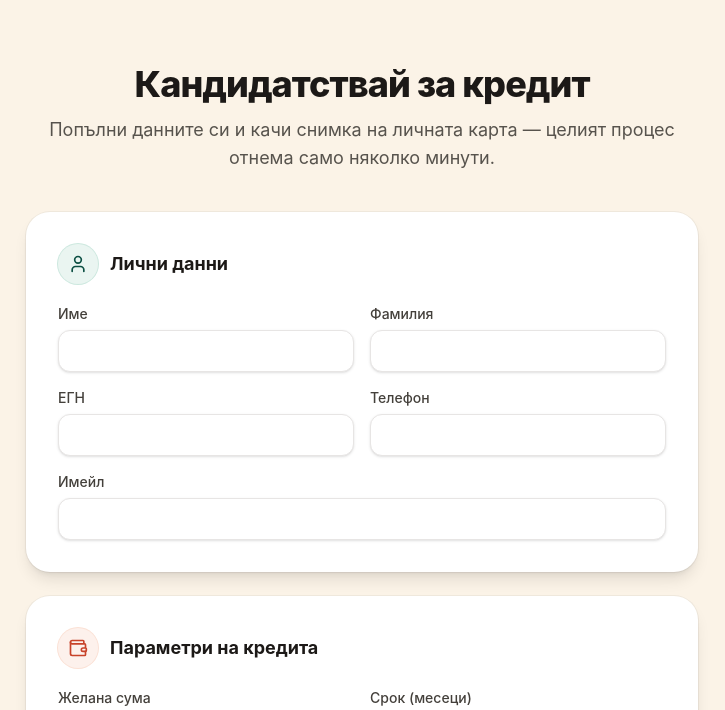
it: ApplyPage › blocks submission and shows an inline message for an invalid EGN
The image size is (725, 710).
Type "1234567890" into the field labelled "ЕГН". click: (206, 435)
box: [58,414,354,456]
(page scrolled)
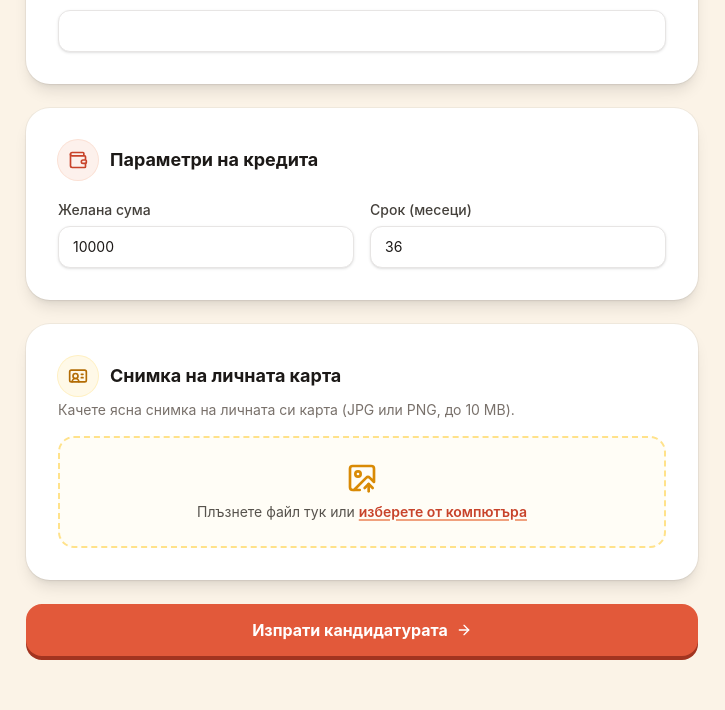
Click the button "Изпрати кандидатурата". click: (362, 630)
box: [26,604,698,656]
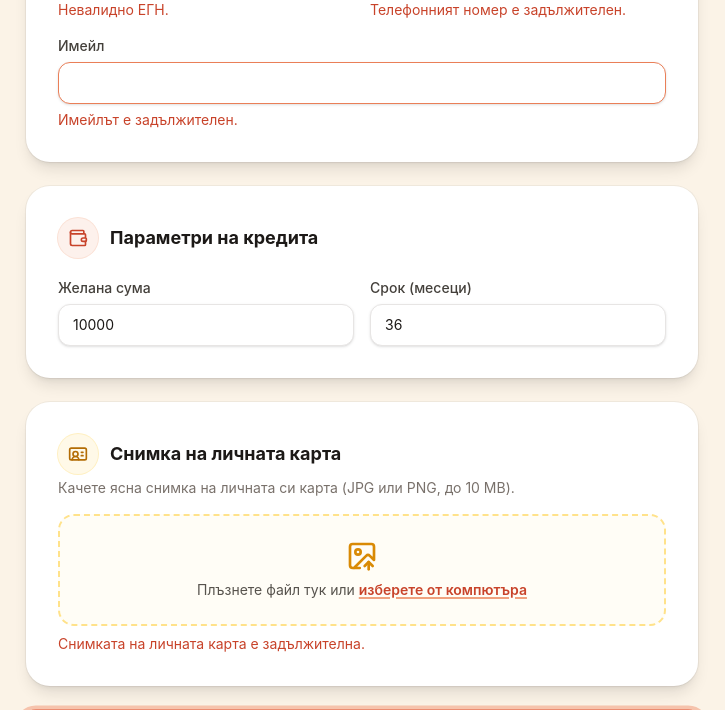
Expected: the text "Невалидно ЕГН." is shown, [58,1,169,18]
